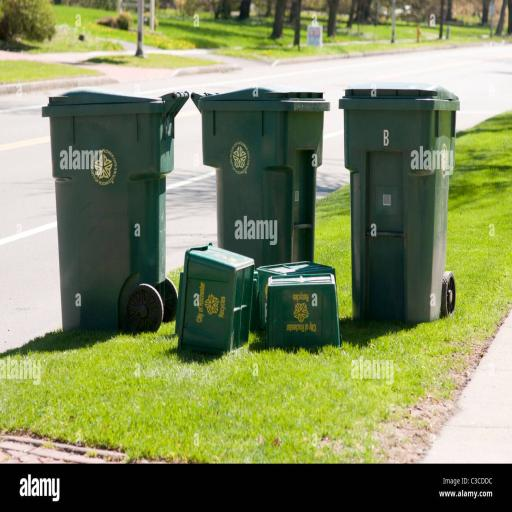Contenedor_Vacio: (42, 88, 191, 321), (199, 88, 329, 268), (352, 140, 450, 324), (176, 277, 236, 353)
